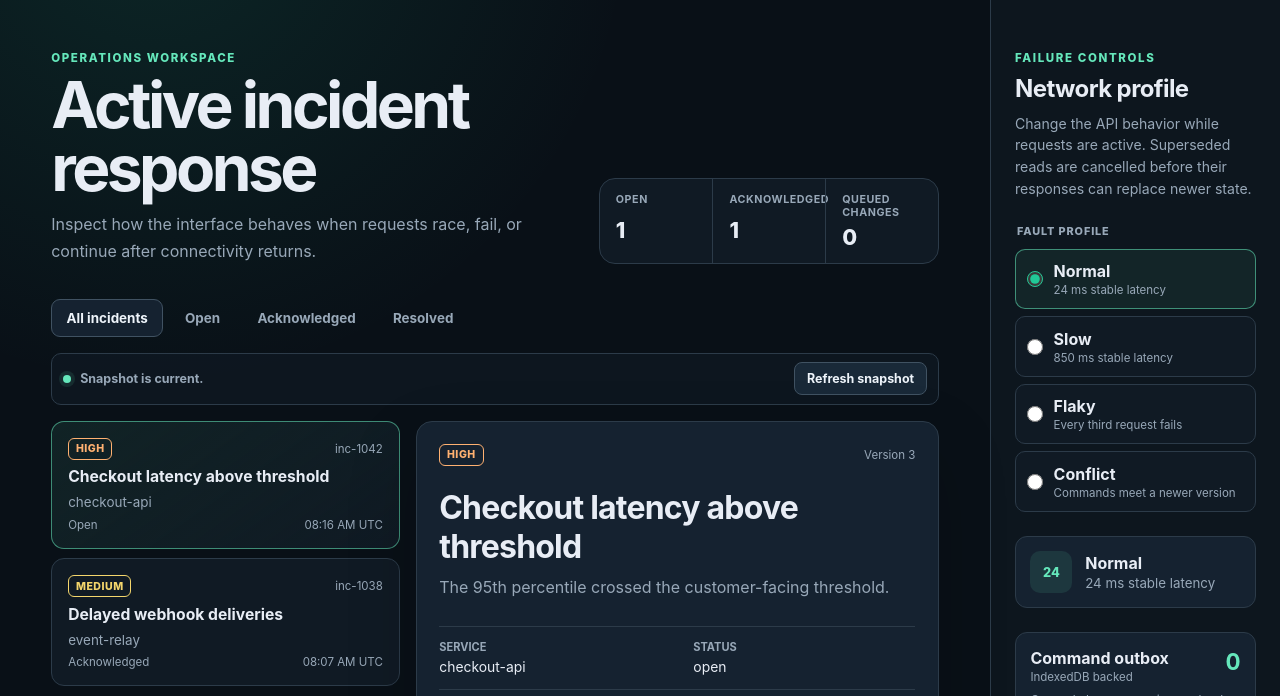
Test: IncidentConsole › requests filtered data without losing the selected detail context
The image size is (1280, 696).
Expected: the button "Checkout latency above threshold" is shown, [51,420,400,548]
Click the button "Acknowledged" at coordinates (307, 318), box [242,299,371,337]
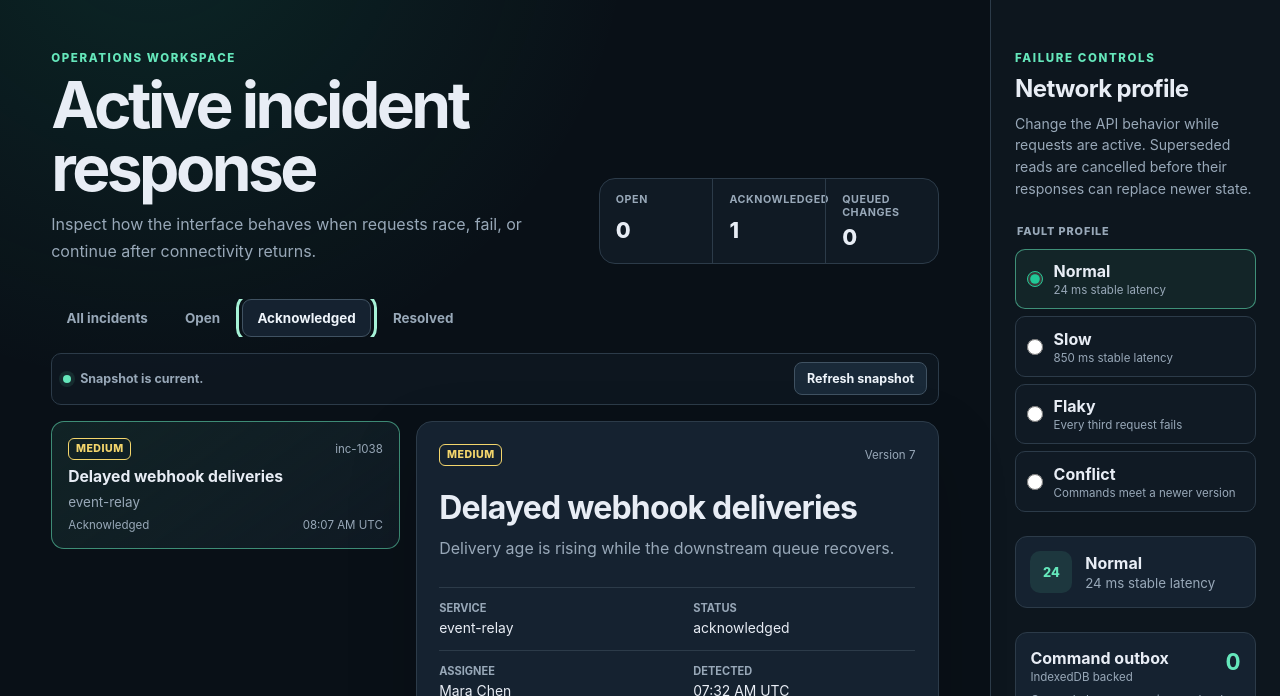
Expected: the button "Delayed webhook deliveries" is shown, [51,420,400,548]
Expected: the button "Checkout latency above threshold" is gone
Expected: the heading "Delayed webhook deliveries" is shown, [439,488,915,527]
